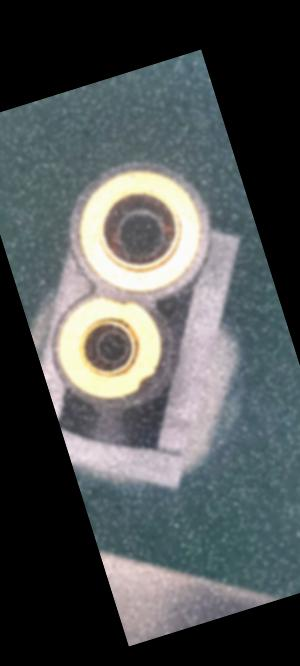bump: (130, 364, 166, 392), (100, 290, 129, 313)
